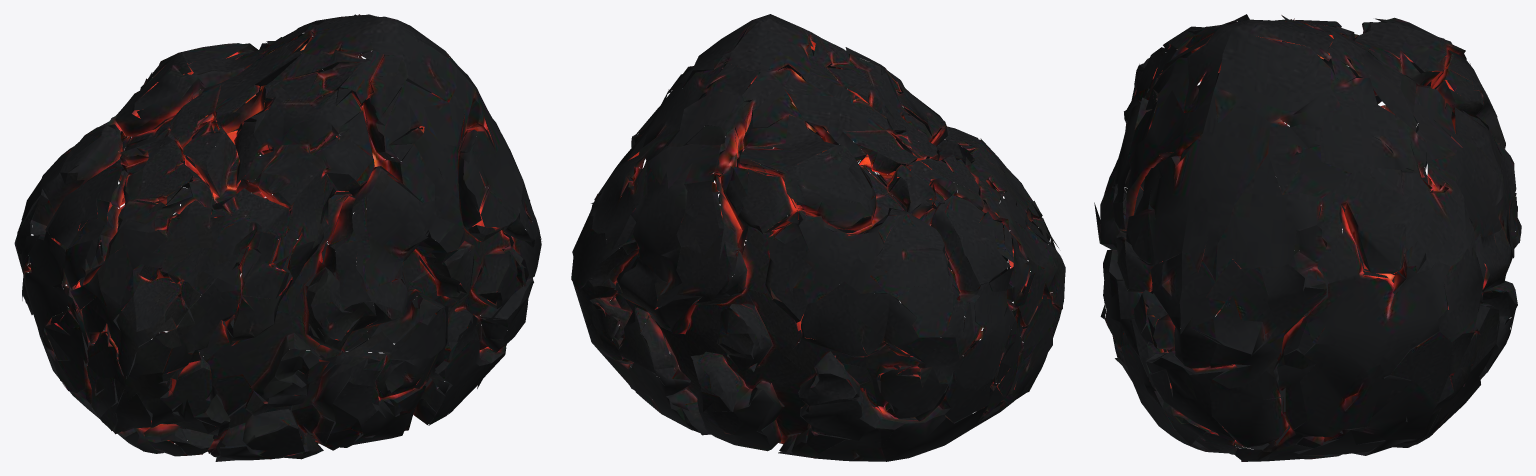
Rendered from boulder.glb.
3 views of the same model, side by side, from view 1: azimuth 30°, elevation 25°; view 2: azimuth 150°, elevation 25°; view 3: azimuth 270°, elevation 25° (orthographic). The views are drawn at different scales.
Visible parts, largest first — view 1: Mesh_0; view 2: Mesh_0; view 3: Mesh_0.
Boxes of the visible parts, x1,y1,x2,y2 form: Mesh_0: (14,14,541,461); Mesh_0: (571,14,1065,461); Mesh_0: (1094,14,1521,461).
Size of the model in its own units: 1.21 by 1 by 0.9595.
Materials: 1 (1 with a texture image).
